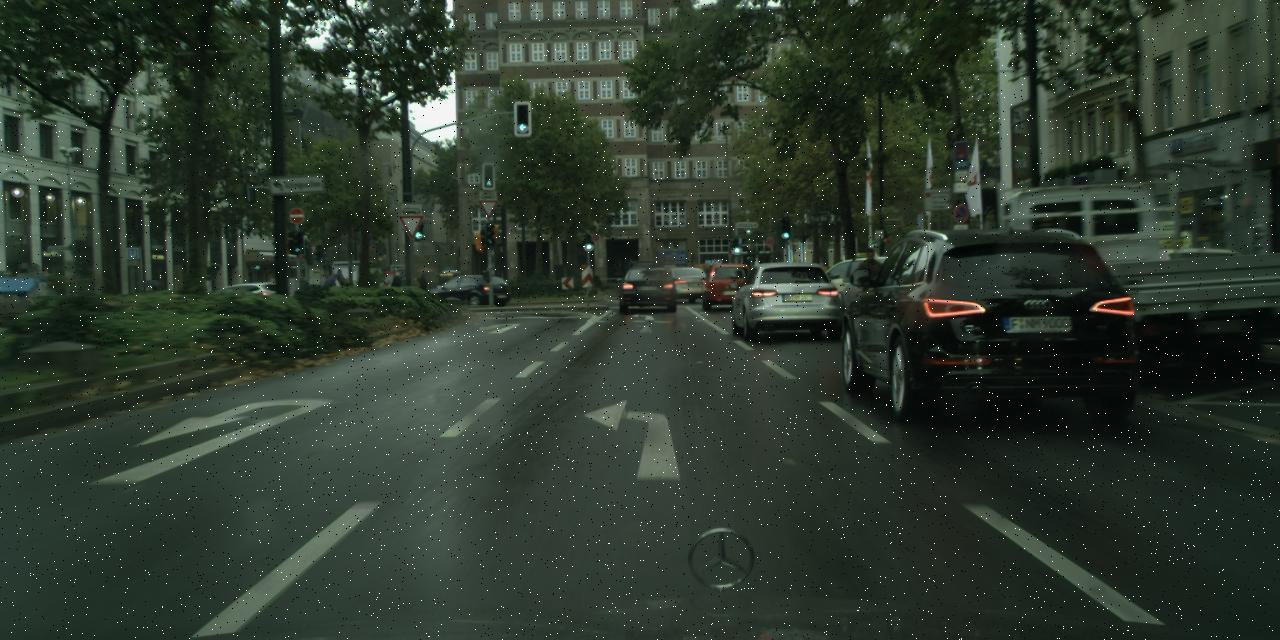ped: (849, 248, 886, 340)
